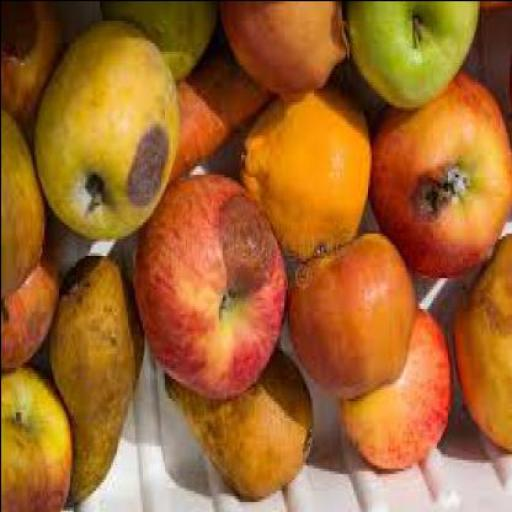biodegradable: (130, 177, 285, 403), (32, 22, 176, 244), (365, 73, 510, 283), (44, 258, 142, 509), (236, 87, 370, 263), (160, 346, 309, 504), (285, 235, 412, 403), (338, 311, 450, 473), (162, 31, 270, 193), (341, 2, 476, 112), (451, 234, 510, 456), (216, 2, 344, 101), (1, 368, 70, 511), (97, 2, 216, 82), (1, 108, 43, 294), (1, 239, 57, 375), (1, 2, 58, 132), (504, 54, 510, 120), (477, 3, 510, 14)
